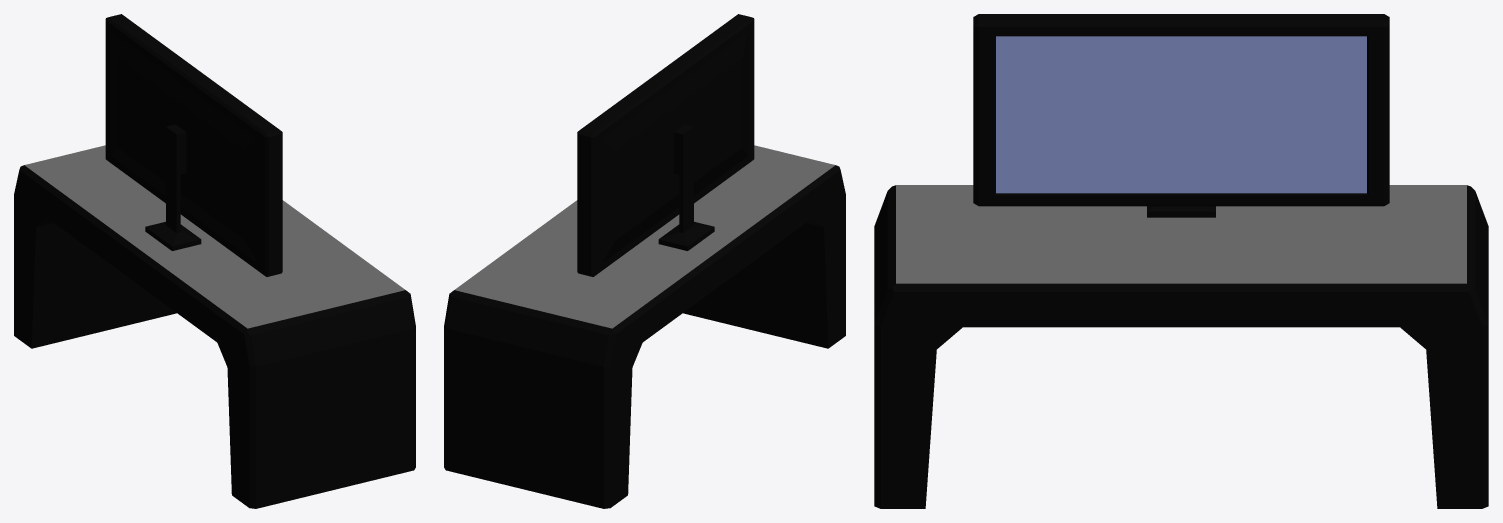
File: DeskB.fbx
The picture shows the model from 3 angles, left to right: view 1: azimuth 30°, elevation 25°; view 2: azimuth 150°, elevation 25°; view 3: azimuth 270°, elevation 25°; orthographic projection. The views are drawn at different scales.
Parts seen in each view (by area): view 1: Desk 2; view 2: Desk 2; view 3: Desk 2.
Boxes of the visible parts, x1,y1,x2,y2 form: Desk 2: (14, 14, 415, 508); Desk 2: (444, 14, 845, 508); Desk 2: (874, 14, 1488, 508).
Size of the model in its own units: 100 by 191 by 250.
